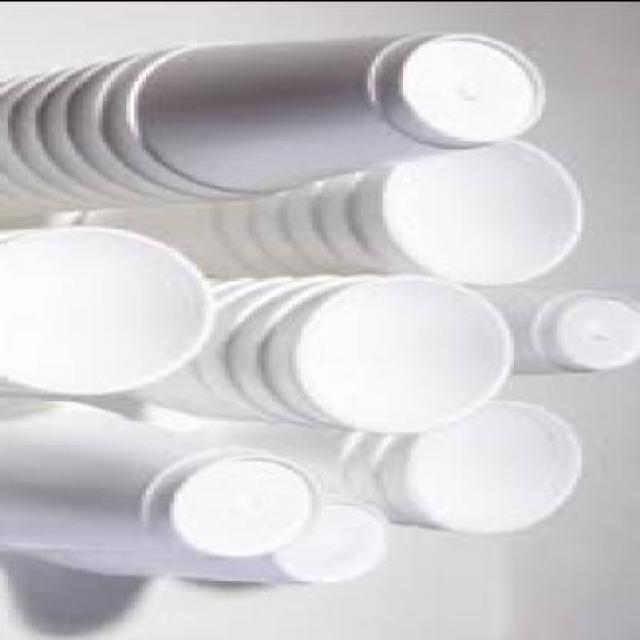PAPER: (5, 35, 549, 217), (78, 142, 590, 287), (120, 278, 526, 436), (4, 400, 316, 562), (277, 400, 585, 535), (269, 272, 522, 436), (4, 225, 221, 398), (344, 140, 588, 285), (32, 492, 399, 585), (376, 396, 589, 538), (477, 283, 638, 375)
